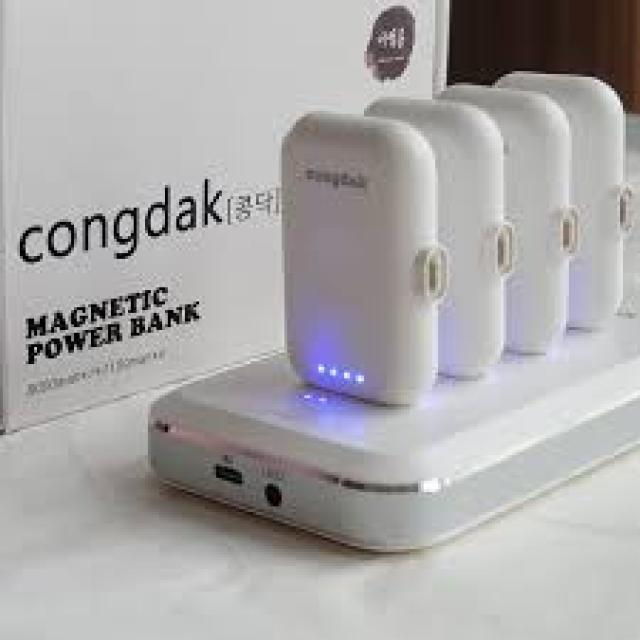portable-charger: (137, 296, 640, 558)
